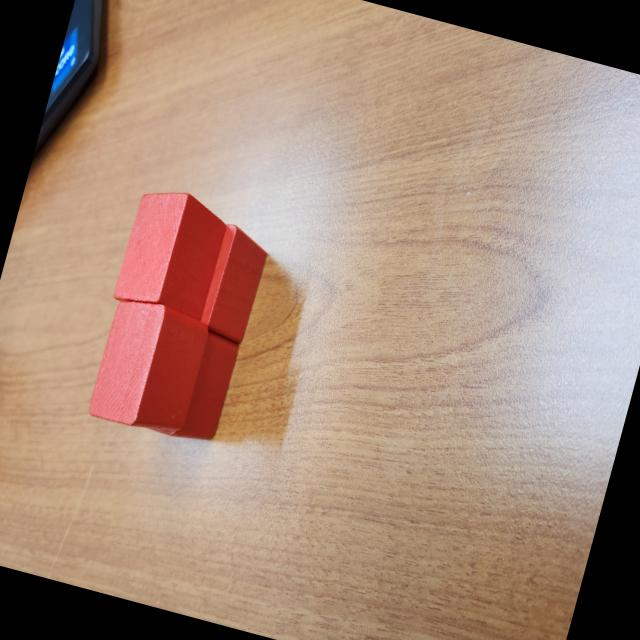red: (83, 290, 213, 440), (110, 181, 232, 324), (142, 319, 241, 448), (196, 221, 274, 346)
